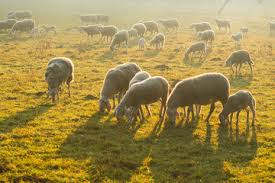sheep: (166, 73, 232, 124), (115, 76, 171, 124), (97, 60, 140, 112), (45, 54, 76, 105), (218, 90, 259, 126), (223, 49, 253, 72), (77, 23, 101, 42), (11, 18, 36, 36), (105, 31, 128, 50), (184, 42, 207, 60), (97, 21, 117, 41), (12, 9, 40, 22), (157, 17, 179, 32), (196, 30, 217, 44), (188, 21, 212, 33), (150, 33, 167, 49), (78, 12, 100, 24), (214, 18, 232, 31), (230, 31, 246, 45), (40, 22, 56, 35), (146, 21, 160, 35), (133, 24, 148, 37), (137, 37, 149, 51), (127, 28, 138, 39), (239, 25, 249, 34)
